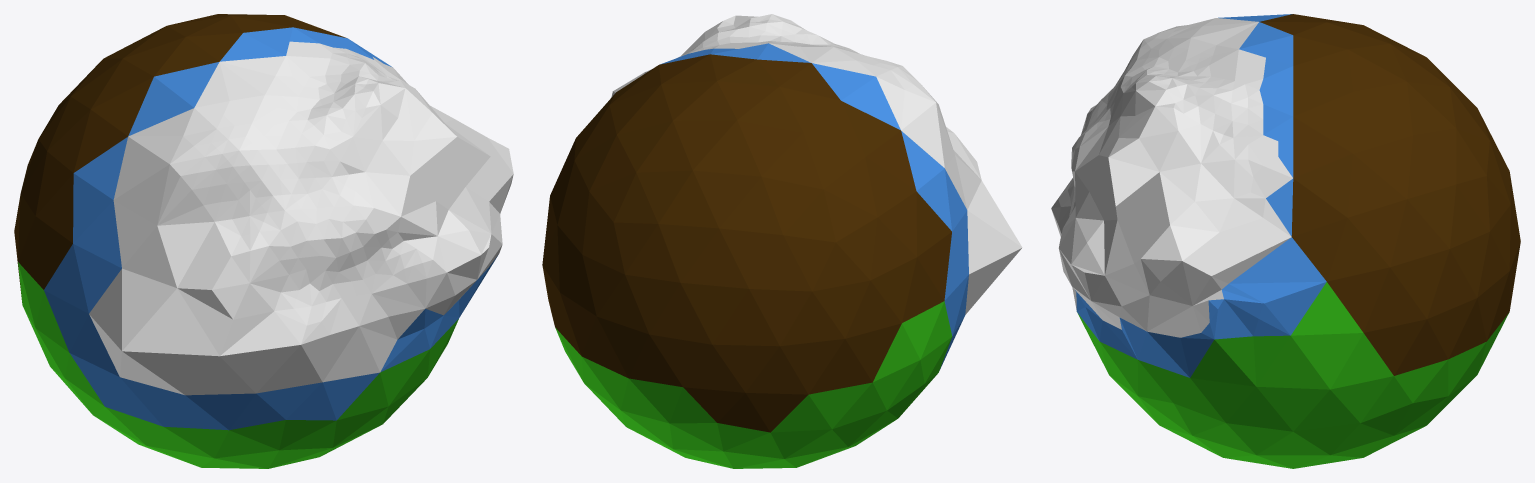
Rendered from planet 1o2x3o.fbx.
3 renders of one model, left to right at view 1: azimuth 30°, elevation 25°; view 2: azimuth 150°, elevation 25°; view 3: azimuth 270°, elevation 25°, orthographic. The views are drawn at different scales.
Visible parts, largest first — view 1: Icosphere.007; view 2: Icosphere.007; view 3: Icosphere.007.
Part boxes in pixels (x1,y1,x2,y2): Icosphere.007: [14, 14, 513, 468]; Icosphere.007: [542, 14, 1022, 468]; Icosphere.007: [1051, 14, 1520, 468].
Size of the model in its own units: 2066 by 2000 by 2064.
